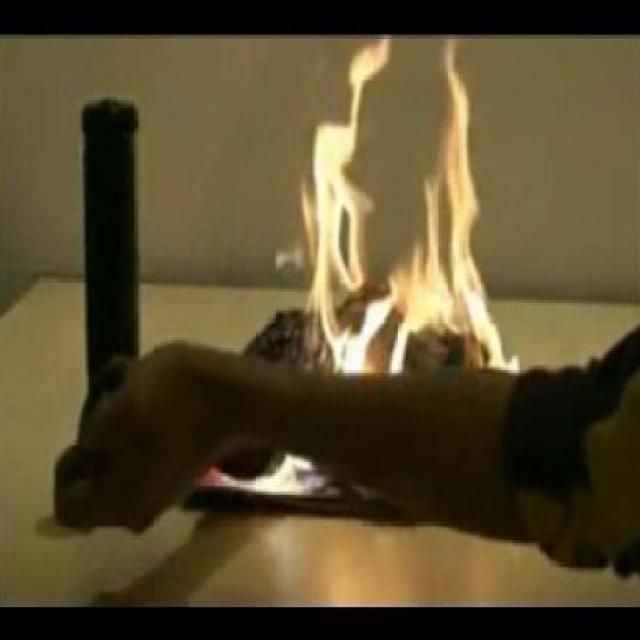smoke: (392, 32, 502, 371), (304, 35, 394, 376)
